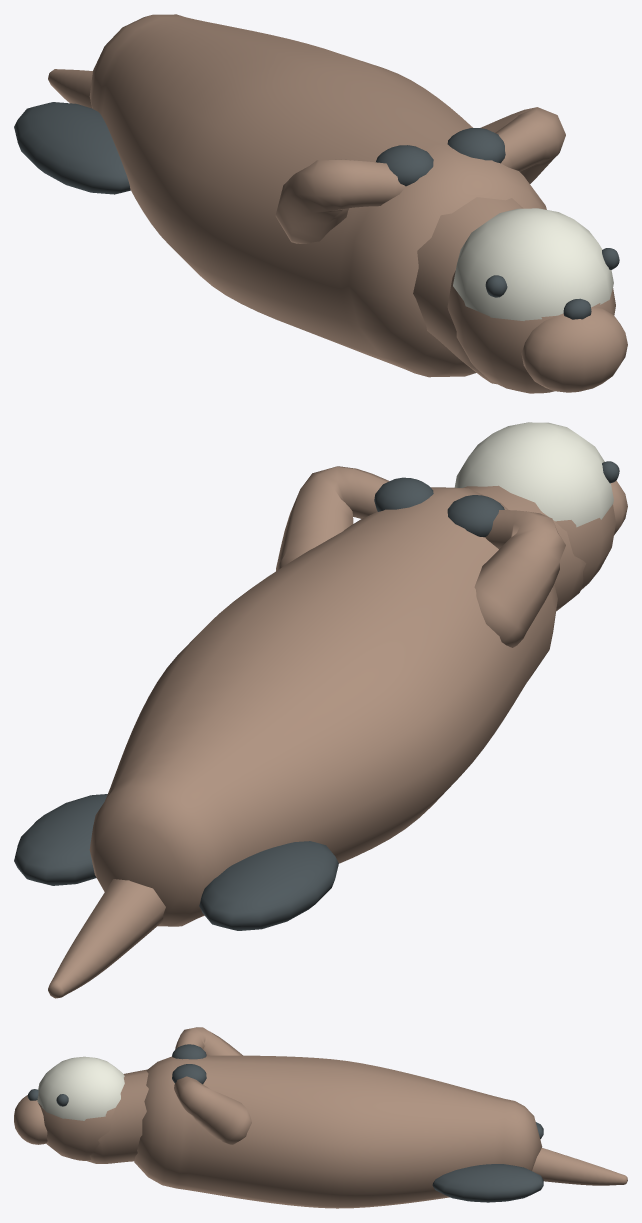
File: open-ocean-and-deep-sea-life-sea-otter-floating-27352205__5895.glb
3 renders of one model, top to bottom at view 1: azimuth 30°, elevation 25°; view 2: azimuth 150°, elevation 25°; view 3: azimuth 270°, elevation 25°, orthographic. The views are drawn at different scales.
Parts seen in each view (by area): view 1: sea-otter-floating; view 2: sea-otter-floating; view 3: sea-otter-floating.
Part boxes in pixels (bbox=[...]): sea-otter-floating: bbox=[14, 14, 627, 393]; sea-otter-floating: bbox=[14, 422, 627, 998]; sea-otter-floating: bbox=[14, 1027, 627, 1208].
Size of the model in its own units: 0.3614 by 0.3099 by 1.2.
